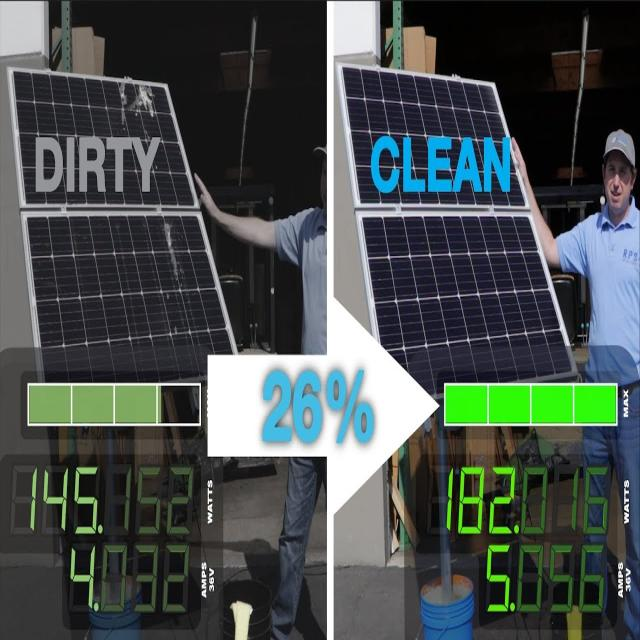dust-solar-panel: (12, 73, 198, 213)
